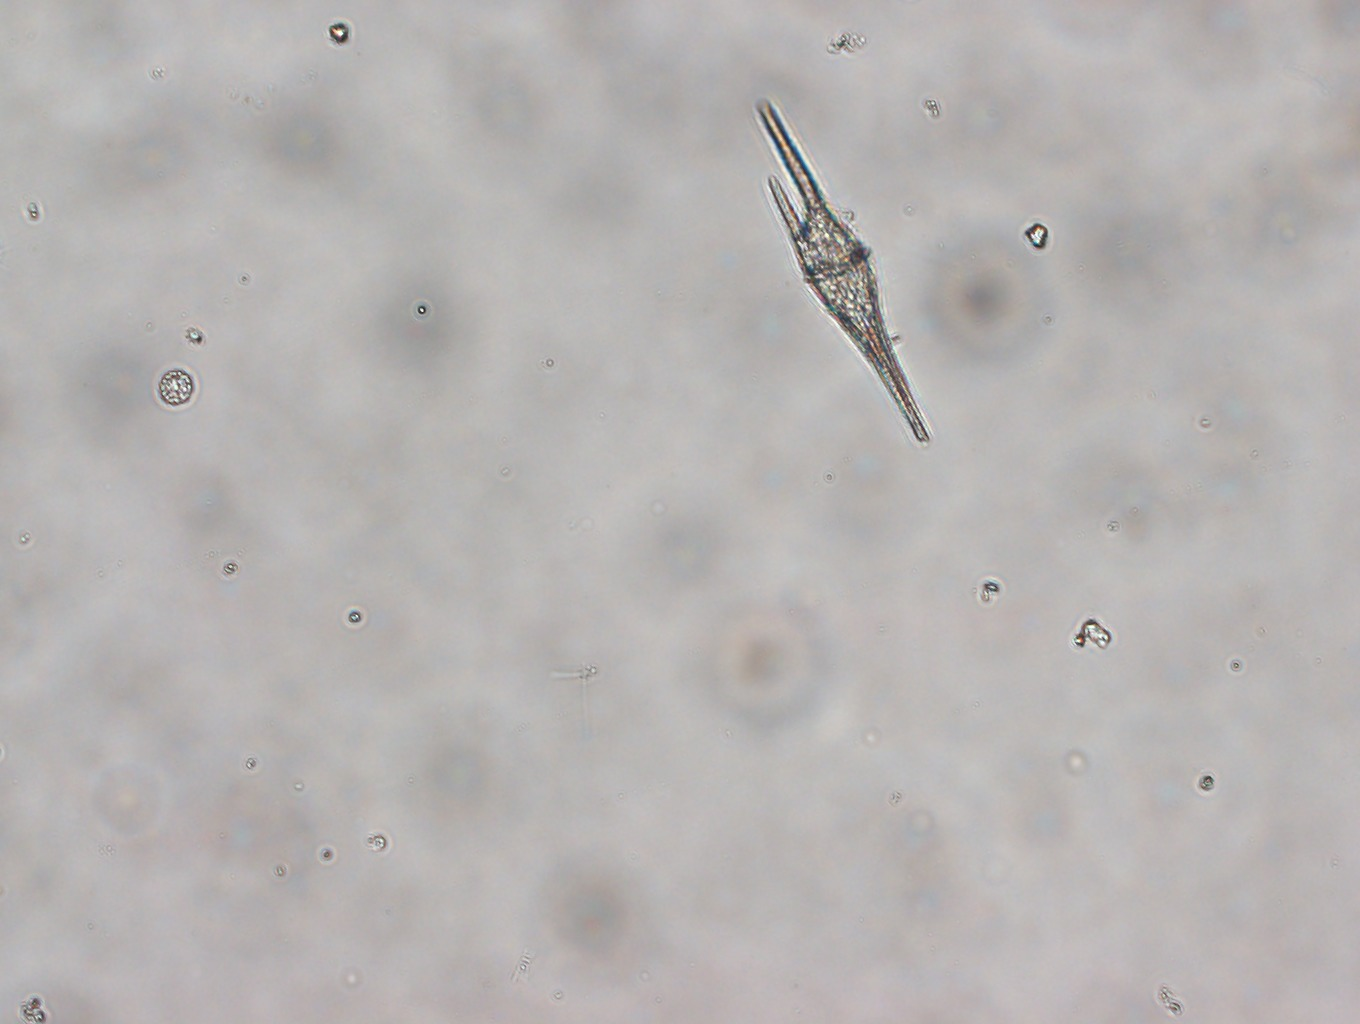ceratium furca: (747, 95, 934, 446)
